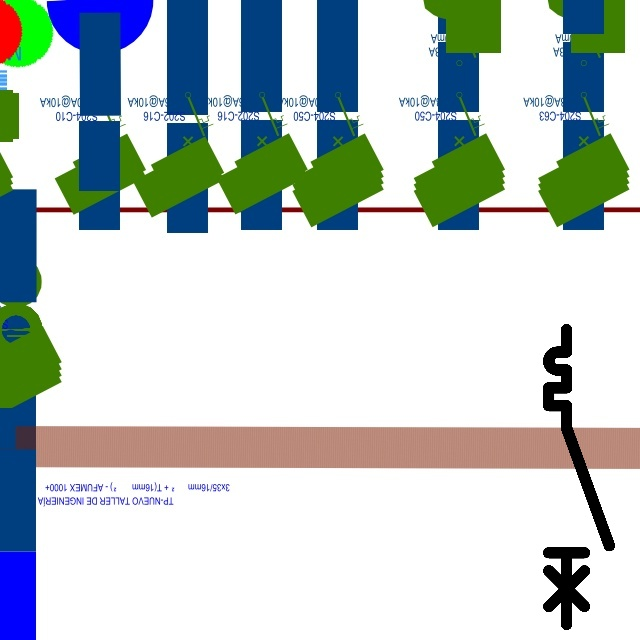interruptor_termomagnetico: (541, 322, 617, 632)
